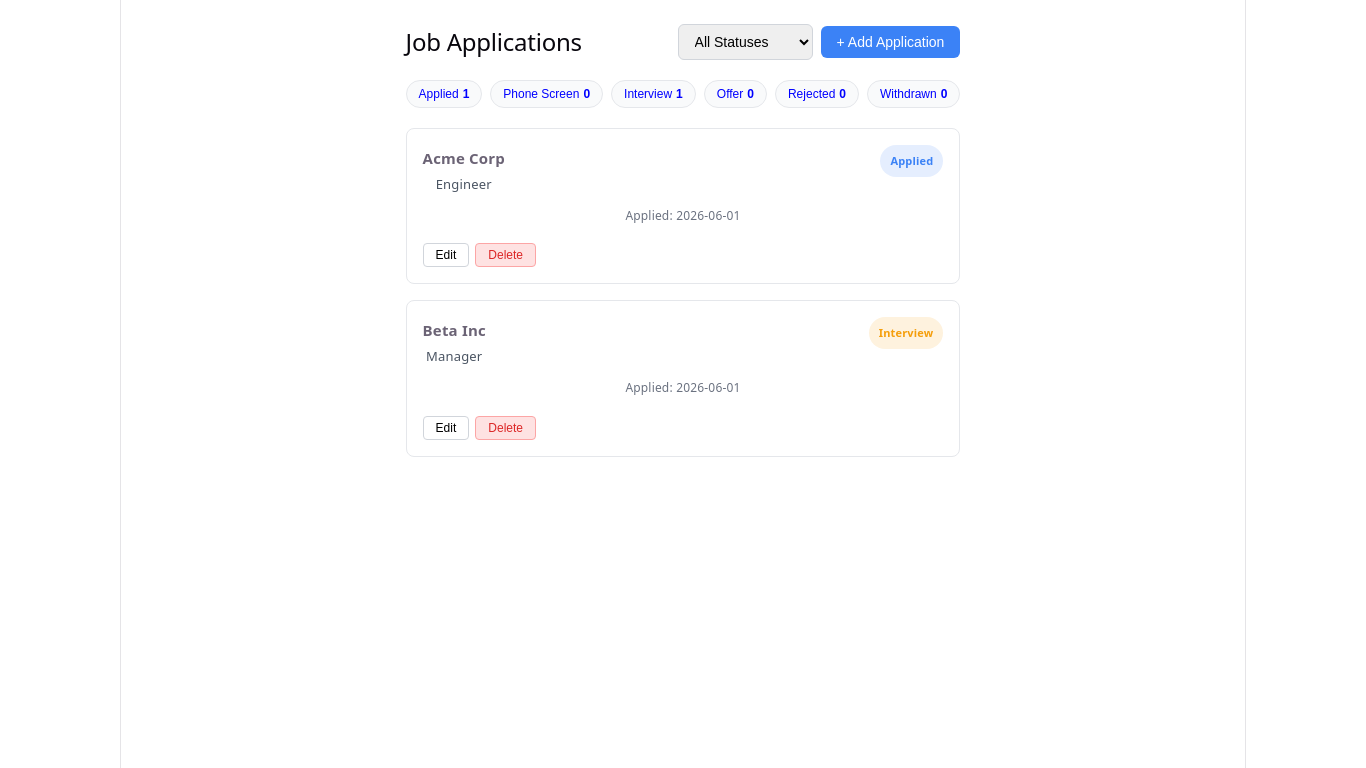
it: ApplicationsPage › creates a new application through the modal
Expected: the text "Acme Corp" is shown, [423,145,505,171]
Click the button "+ Add Application" at (890, 42), box [821,26,960,58]
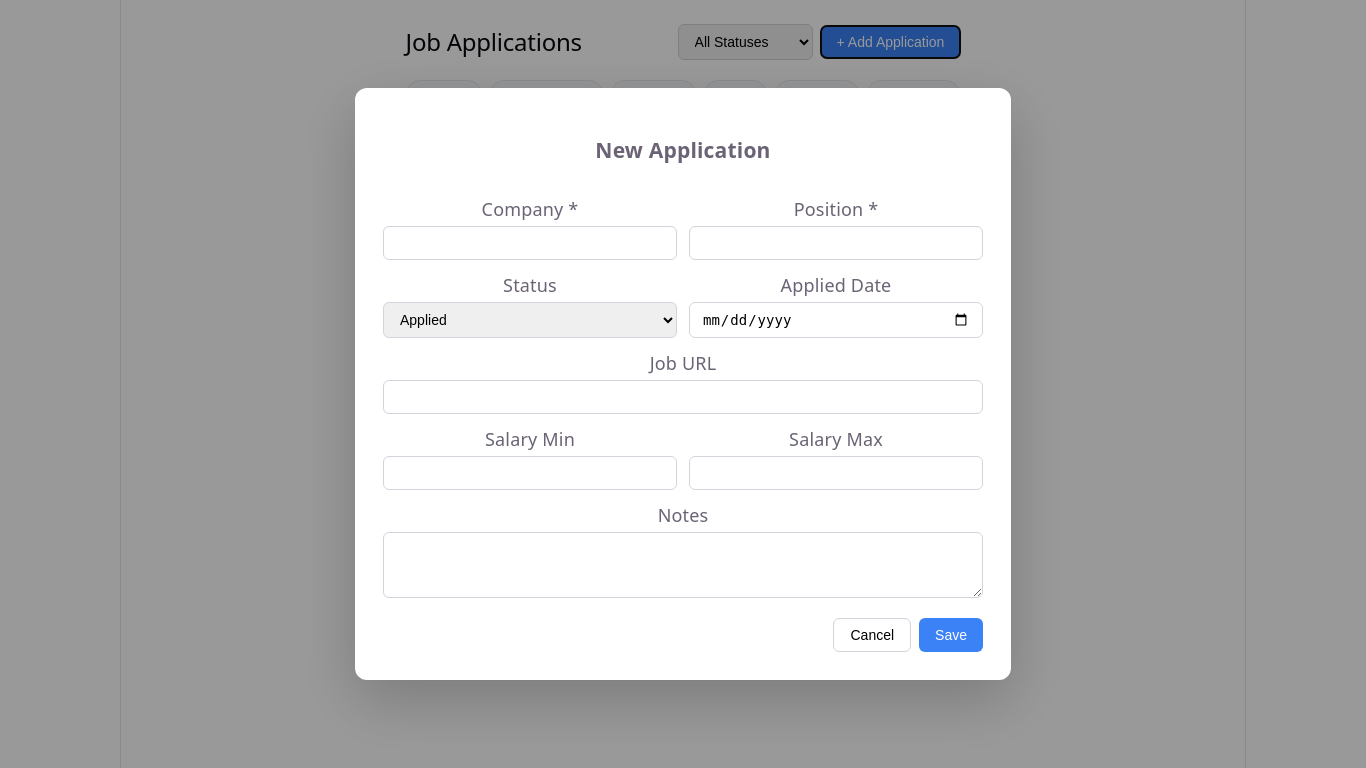
Type "Gamma LLC" into the field labelled "Company *" at (530, 243), box [383,226,677,260]
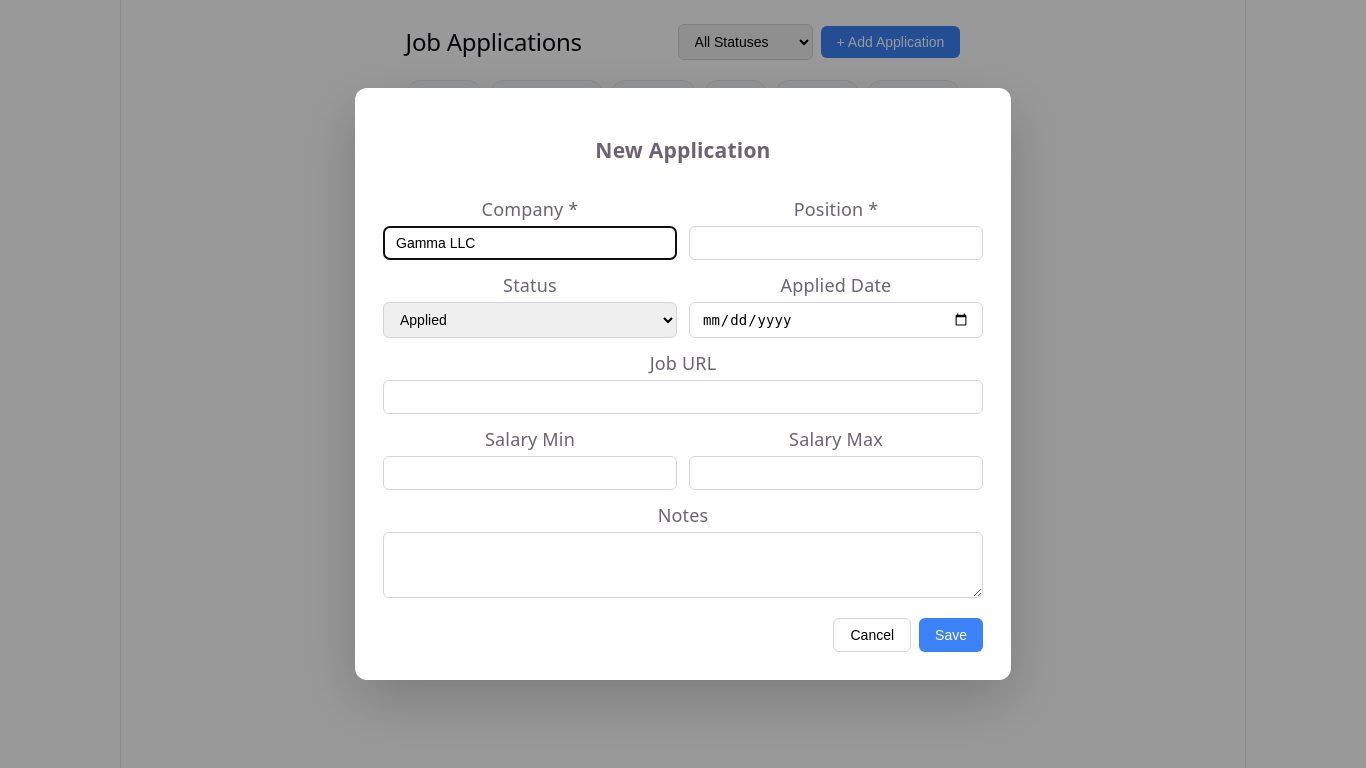
Type "Director" into the field labelled "Position *" at (836, 243), box [689,226,983,260]
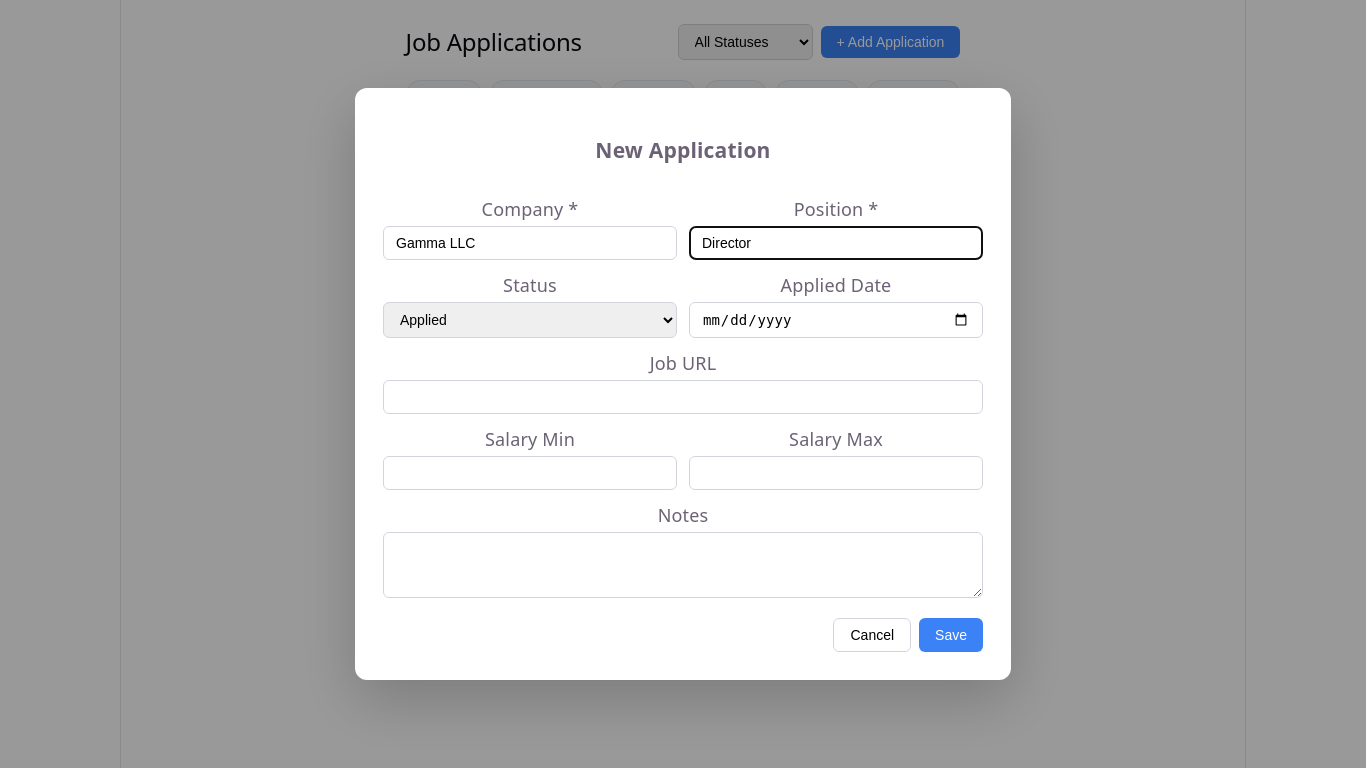
Click the button "Save" at (951, 635), box [919,618,983,652]
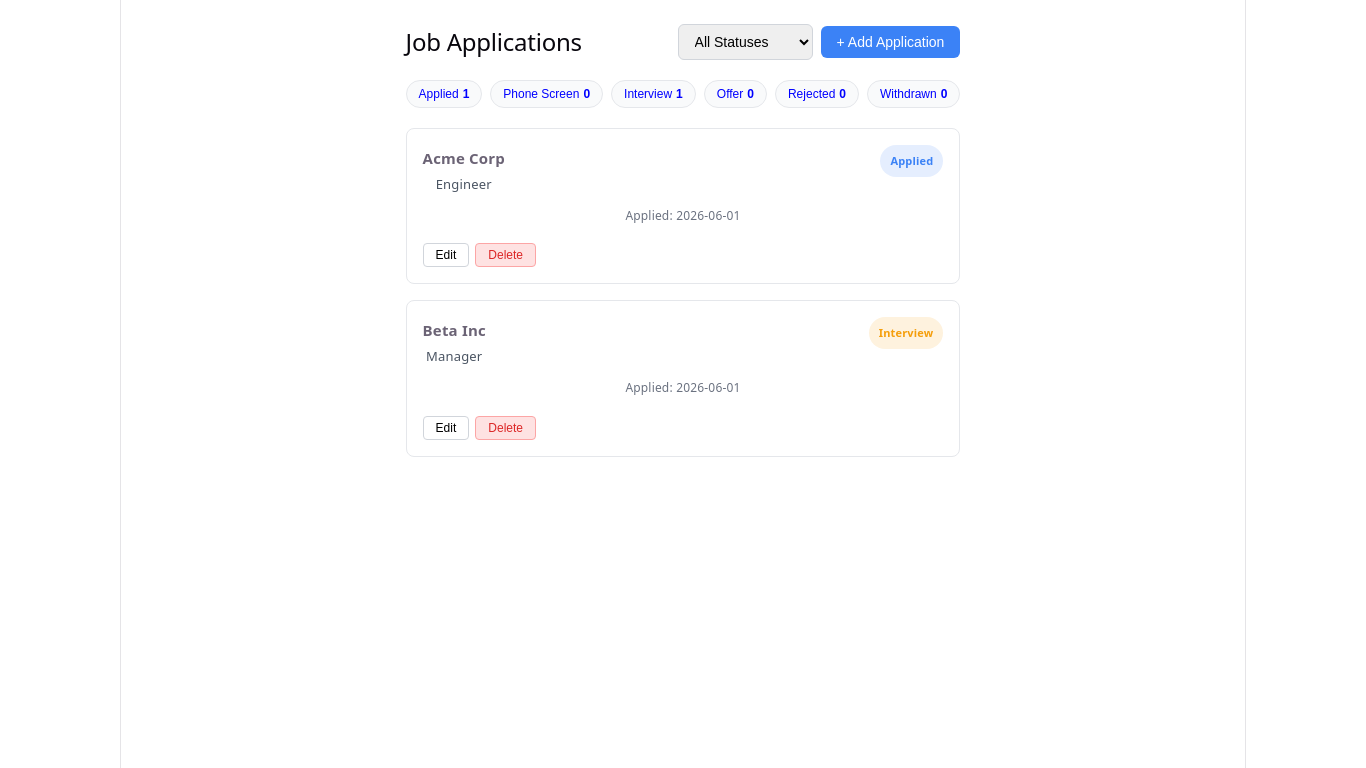
Expected: the heading "New Application" is gone
